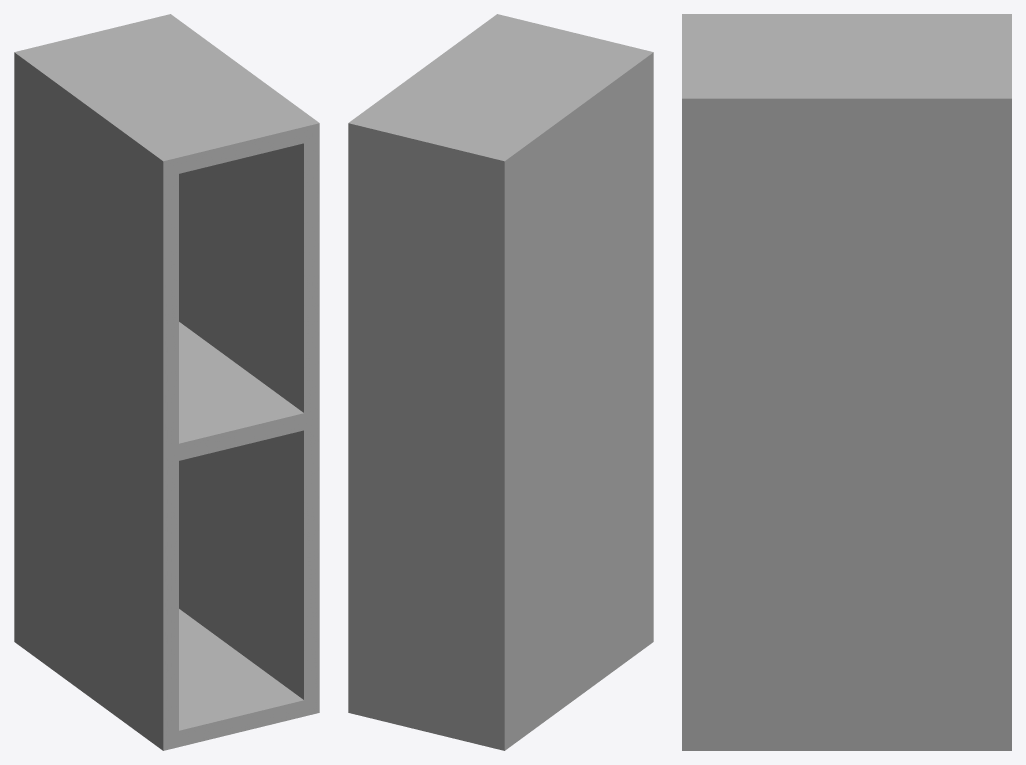
The picture shows the model from 3 angles, left to right: view 1: azimuth 30°, elevation 25°; view 2: azimuth 150°, elevation 25°; view 3: azimuth 270°, elevation 25°; orthographic projection. The views are drawn at different scales.
Visible parts, largest first — view 1: Box001; view 2: Box001; view 3: Box001.
Part boxes in pixels (x1,y1,x2,y2): Box001: (14, 14, 319, 750); Box001: (348, 14, 653, 750); Box001: (682, 14, 1011, 750).
Size of the model in its own units: 0.2 by 0.72 by 0.33.
Materials: 1 (1 with a texture image).
